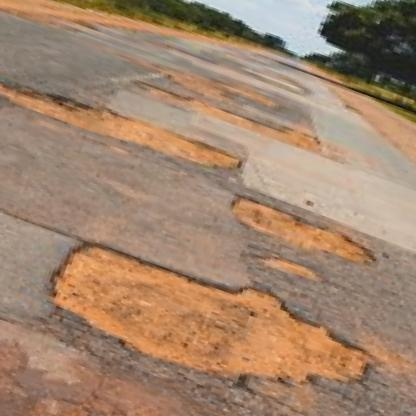pothole: (37, 220, 395, 416), (0, 63, 244, 186), (134, 75, 325, 159), (224, 191, 382, 277), (249, 245, 332, 290), (211, 75, 278, 110)
